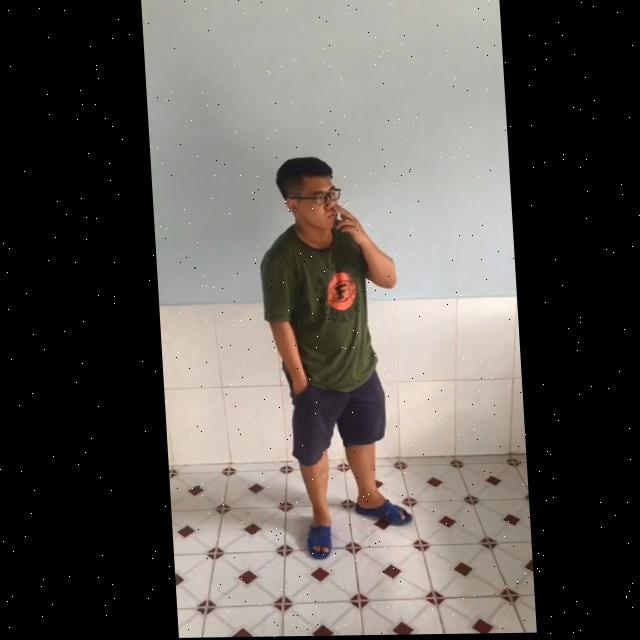cigarette: (331, 200, 349, 216)
